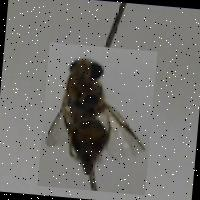Oriental-fruit-fly: (38, 41, 158, 194)
